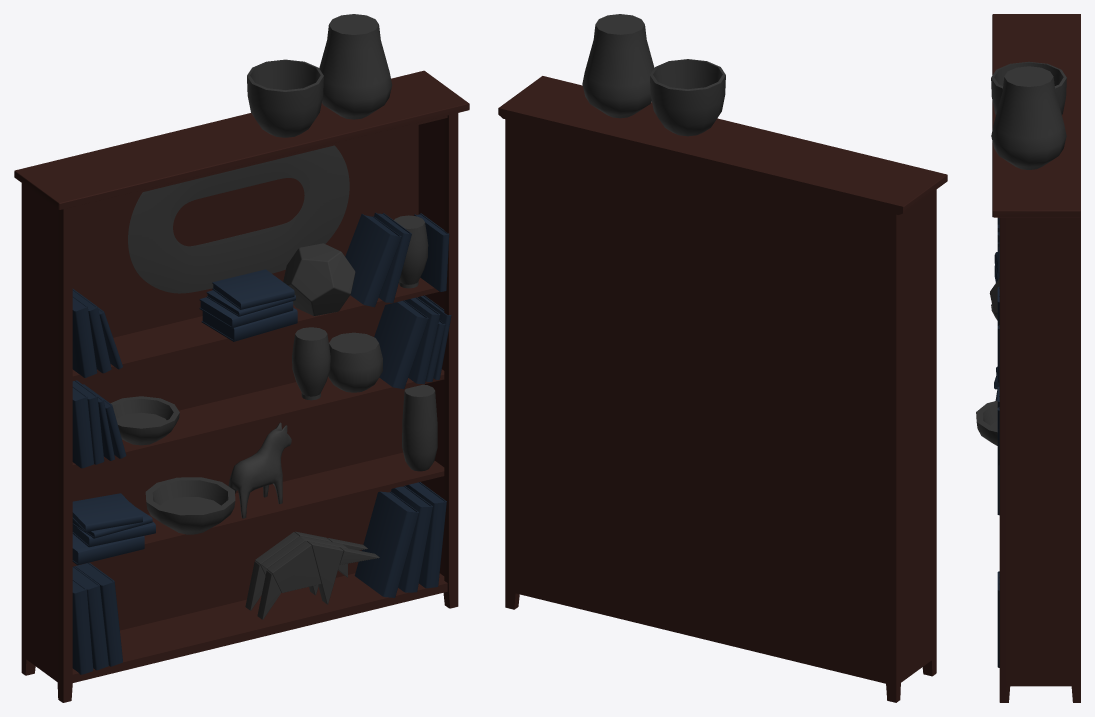
File: BookCaseFilled.fbx
3 views of the same model, side by side, from view 1: azimuth 30°, elevation 25°; view 2: azimuth 150°, elevation 25°; view 3: azimuth 270°, elevation 25° (orthographic).
Visible parts, largest first — view 1: bookcase; view 2: bookcase; view 3: bookcase.
Part boxes in pixels (box(x1,y1,x2,y2)): bookcase: box(14, 14, 469, 702); bookcase: box(498, 14, 947, 702); bookcase: box(976, 14, 1080, 702).
Size of the model in its own units: 178 by 246 by 40.03.
